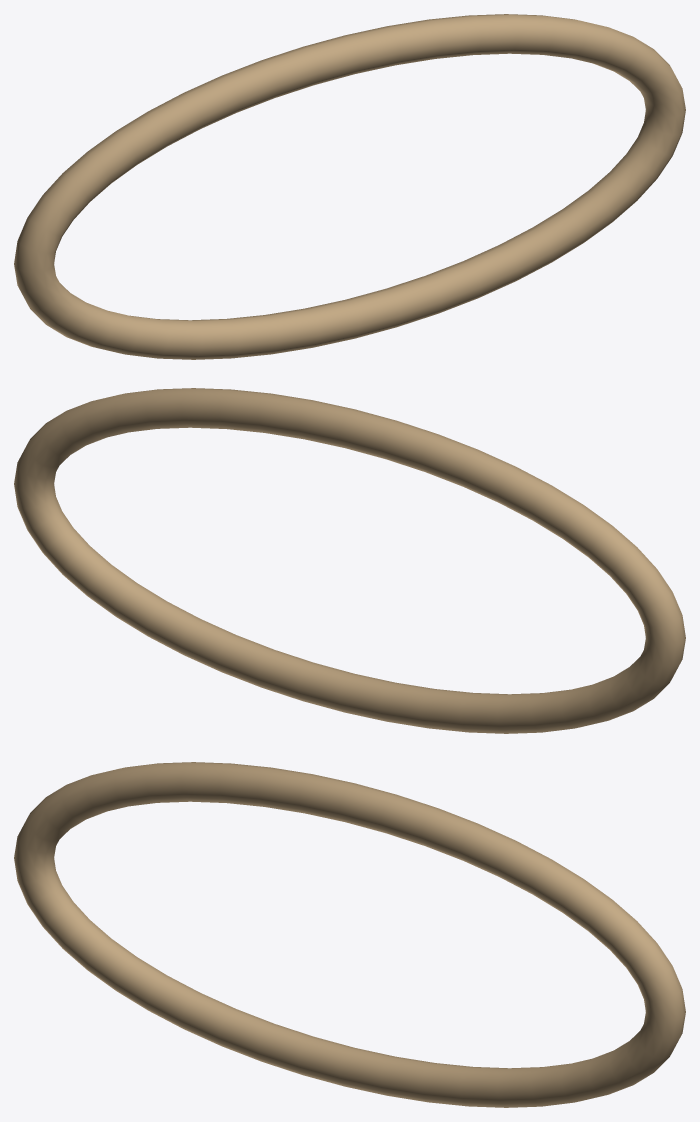
The model's file is conch_jangseung_ground.glb.
3 views of the same model, one above another, from view 1: azimuth 30°, elevation 25°; view 2: azimuth 150°, elevation 25°; view 3: azimuth 330°, elevation 25° (orthographic).
Bounding box in the file's own units: 21.1 × 9.1 × 1.1.
